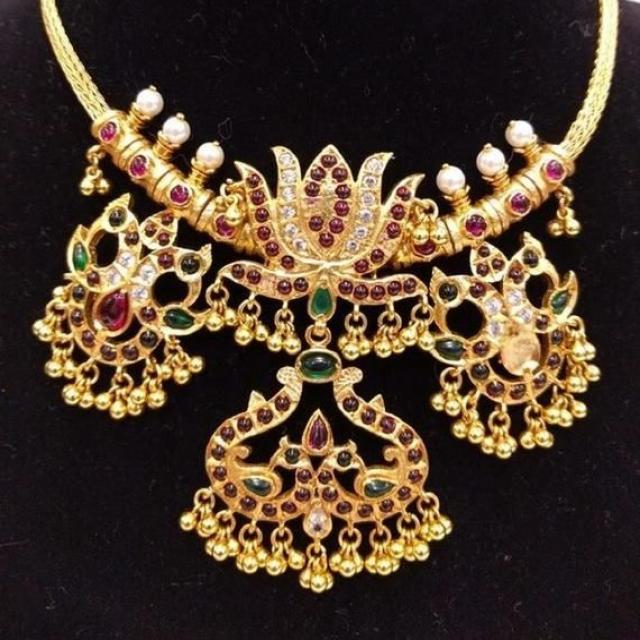missing gem: (508, 330, 535, 368), (306, 200, 320, 214), (262, 276, 275, 290), (381, 239, 394, 252)
